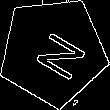N_NW: (22, 21, 84, 81)
